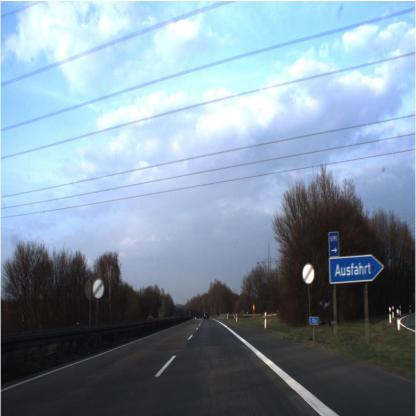other: (298, 262, 318, 286), (92, 276, 104, 296)
